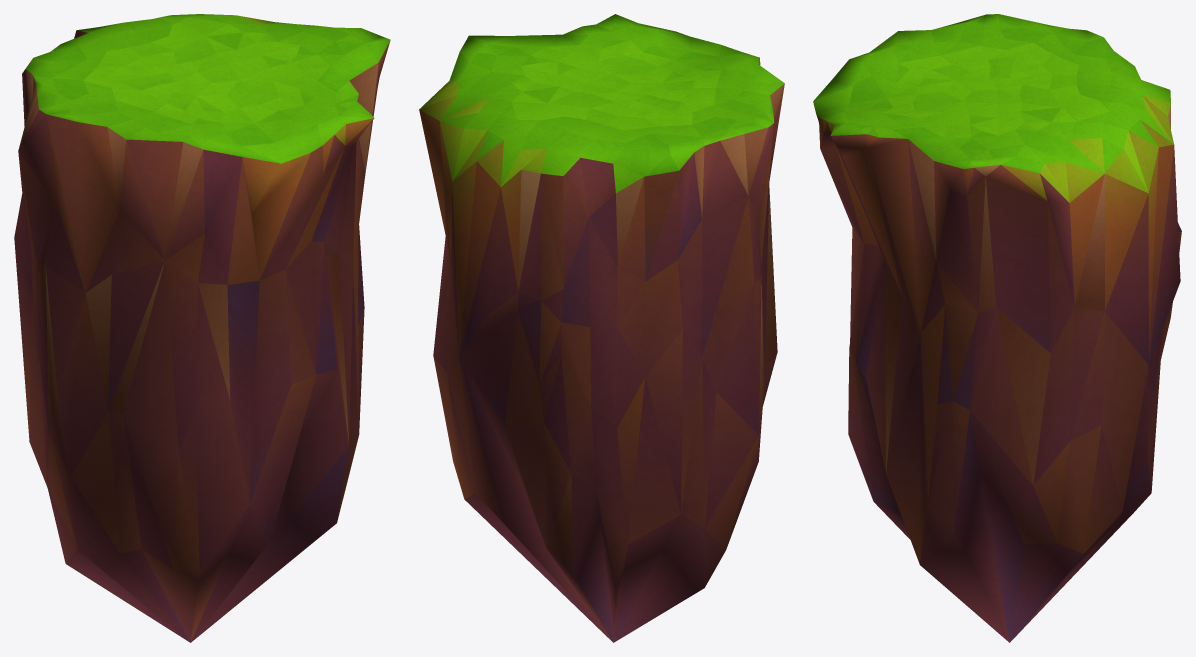
Rendered from Terrain-part-19.fbx.
The picture shows the model from 3 angles, left to right: view 1: azimuth 30°, elevation 25°; view 2: azimuth 150°, elevation 25°; view 3: azimuth 270°, elevation 25°; orthographic projection. The views are drawn at different scales.
Visible parts, largest first — view 1: Terrain-part-19; view 2: Terrain-part-19; view 3: Terrain-part-19.
Part boxes in pixels (bbox=[...]): Terrain-part-19: bbox=[14, 14, 390, 642]; Terrain-part-19: bbox=[419, 14, 784, 642]; Terrain-part-19: bbox=[813, 14, 1181, 642].
Bounding box in the file's own units: 7.91 × 13.1 × 7.87.
